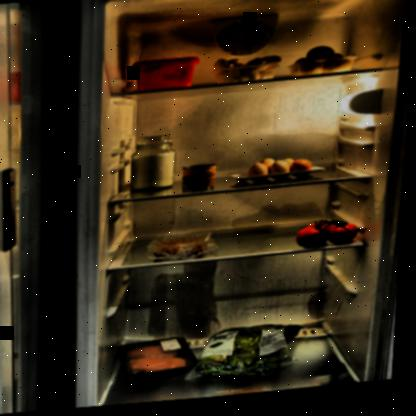butter: (130, 57, 202, 95)
chicken: (130, 340, 196, 381)
corn: (184, 166, 219, 196)
eggs: (247, 158, 314, 187)
mushrooms: (213, 55, 283, 88)
shrimp: (154, 235, 213, 263)
spinach: (191, 326, 309, 387)
sweet_potato: (288, 48, 358, 84)
tomato: (297, 221, 363, 254)
